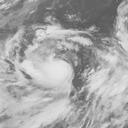cyclone: (1, 20, 89, 127)
